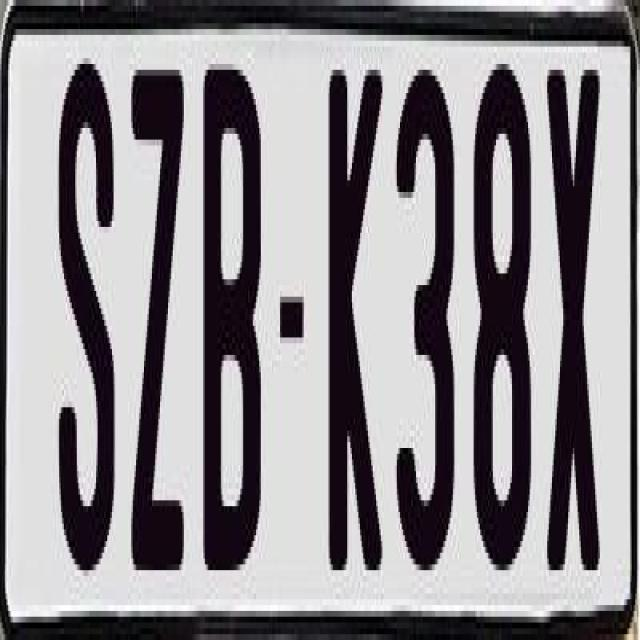3: (397, 52, 462, 553)
8: (470, 46, 536, 552)
B: (202, 58, 264, 564)
K: (324, 52, 388, 564)
S: (56, 52, 120, 576)
X: (547, 52, 600, 553)
Z: (130, 52, 188, 564)
